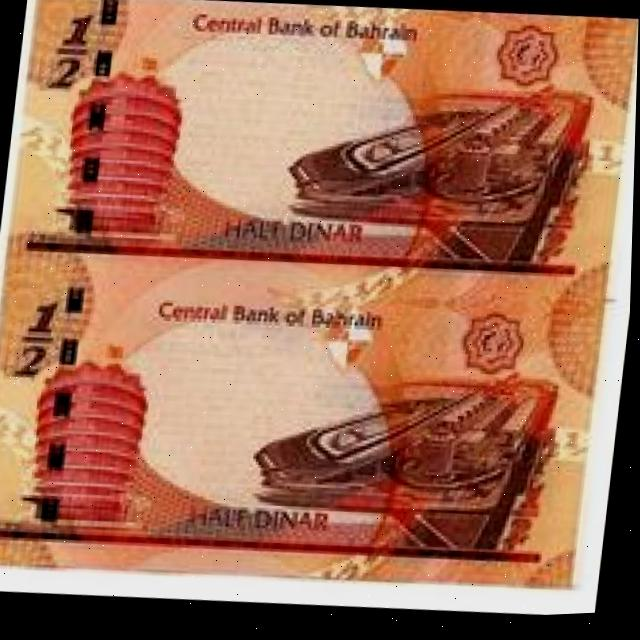banknote: (0, 232, 611, 616), (9, 0, 638, 306)
